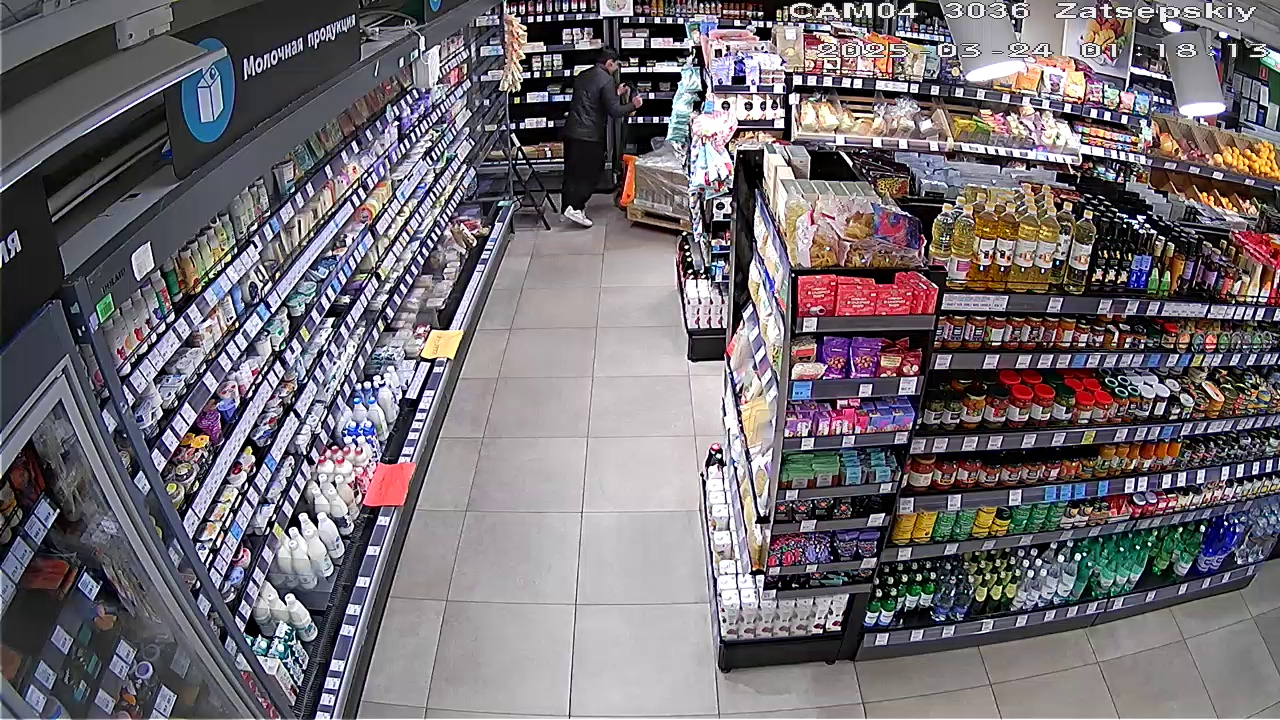Human: (540, 38, 640, 224)
pallet: (620, 140, 700, 231)
